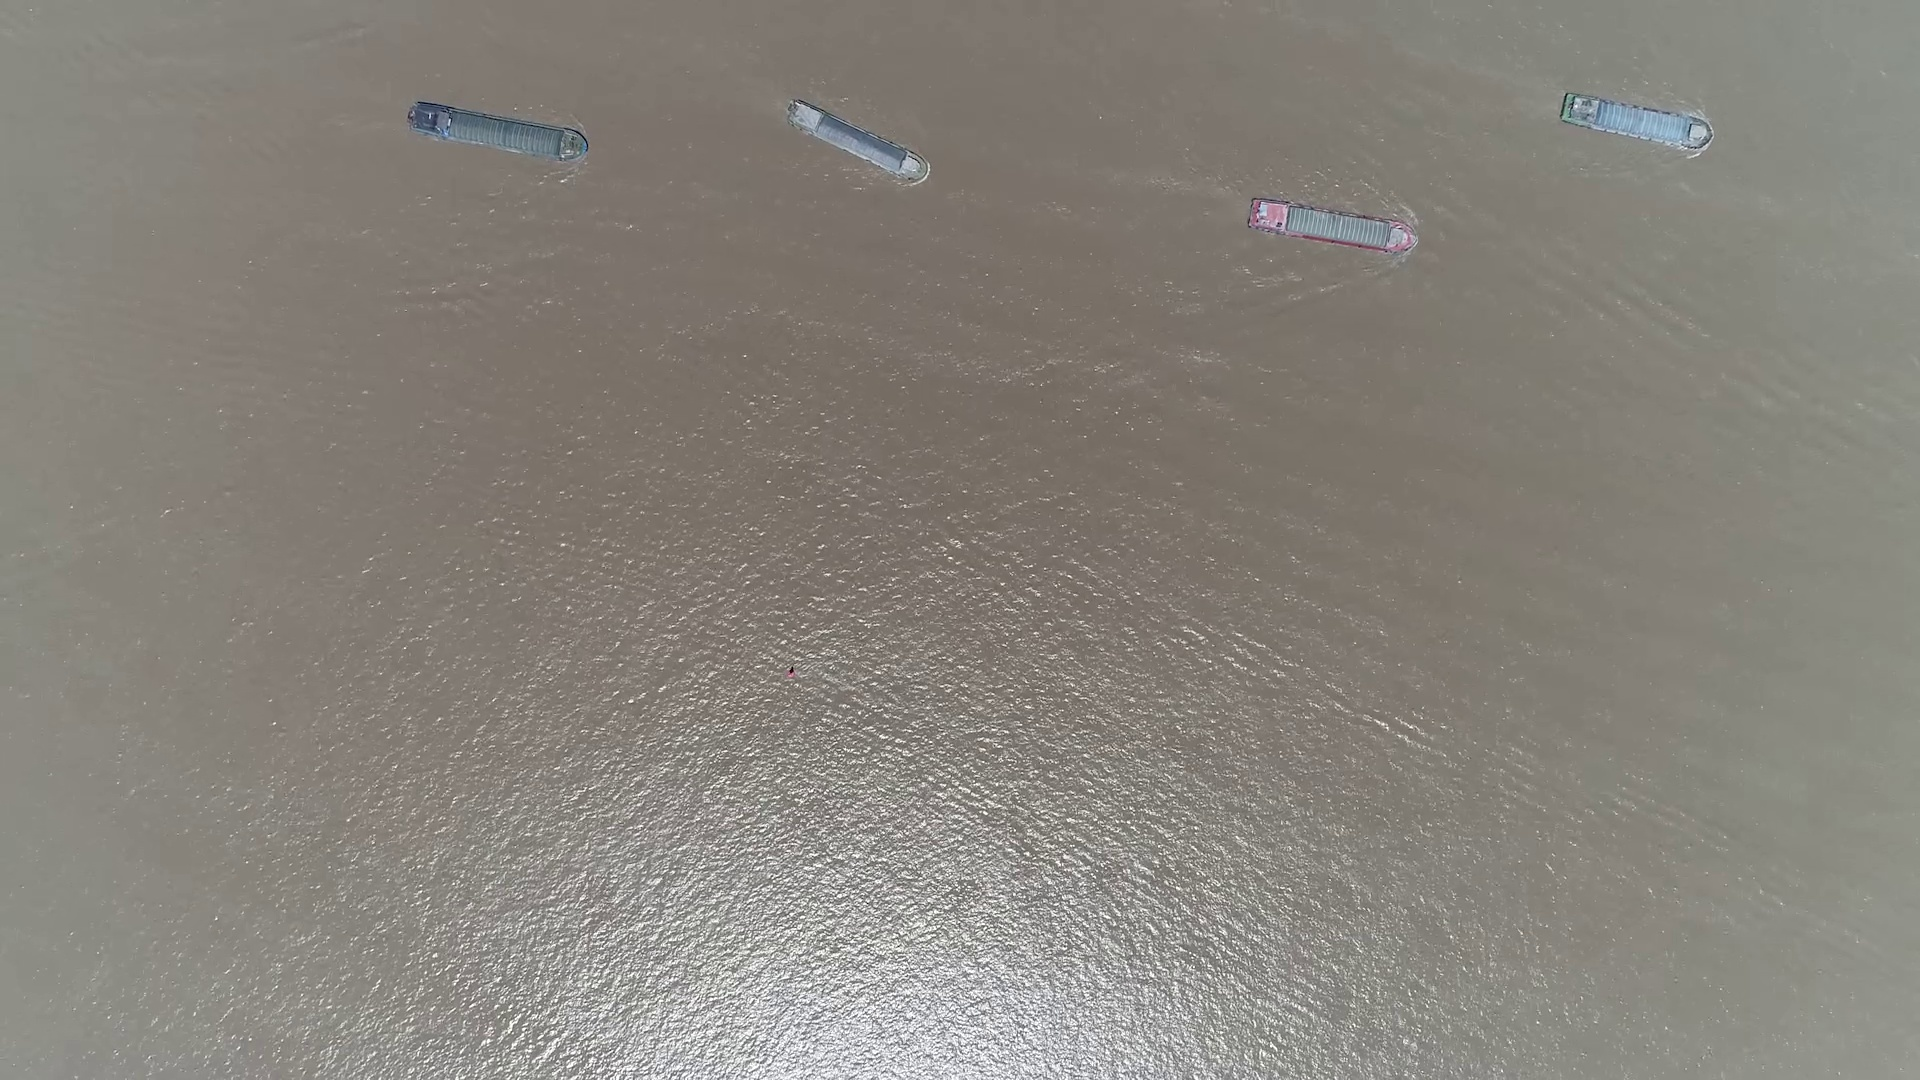ship: (785, 102, 924, 181), (407, 102, 588, 162), (1246, 200, 1418, 255), (1560, 96, 1713, 149)
